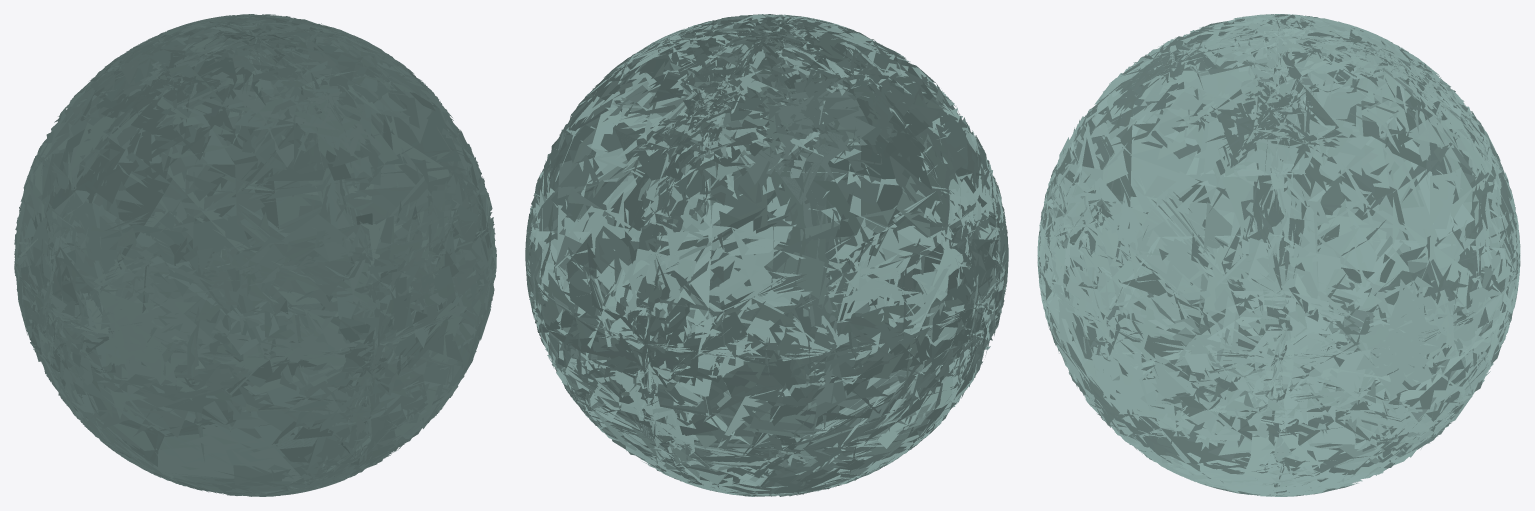
The model's file is sys-dsf-pipe_supports.glb.
3 views of the same model, side by side, from view 1: azimuth 30°, elevation 25°; view 2: azimuth 150°, elevation 25°; view 3: azimuth 270°, elevation 25° (orthographic).
Visible parts, largest first — view 1: TS-dsf-pipe_supports-1489; view 2: TS-dsf-pipe_supports-1489; view 3: TS-dsf-pipe_supports-1489.
Boxes of the visible parts, box(x1,y1,x2,y2) form: TS-dsf-pipe_supports-1489: box(14, 14, 496, 496); TS-dsf-pipe_supports-1489: box(525, 14, 1008, 496); TS-dsf-pipe_supports-1489: box(1037, 14, 1520, 496).
Bounding box in the file's own units: 2 × 2 × 2.
